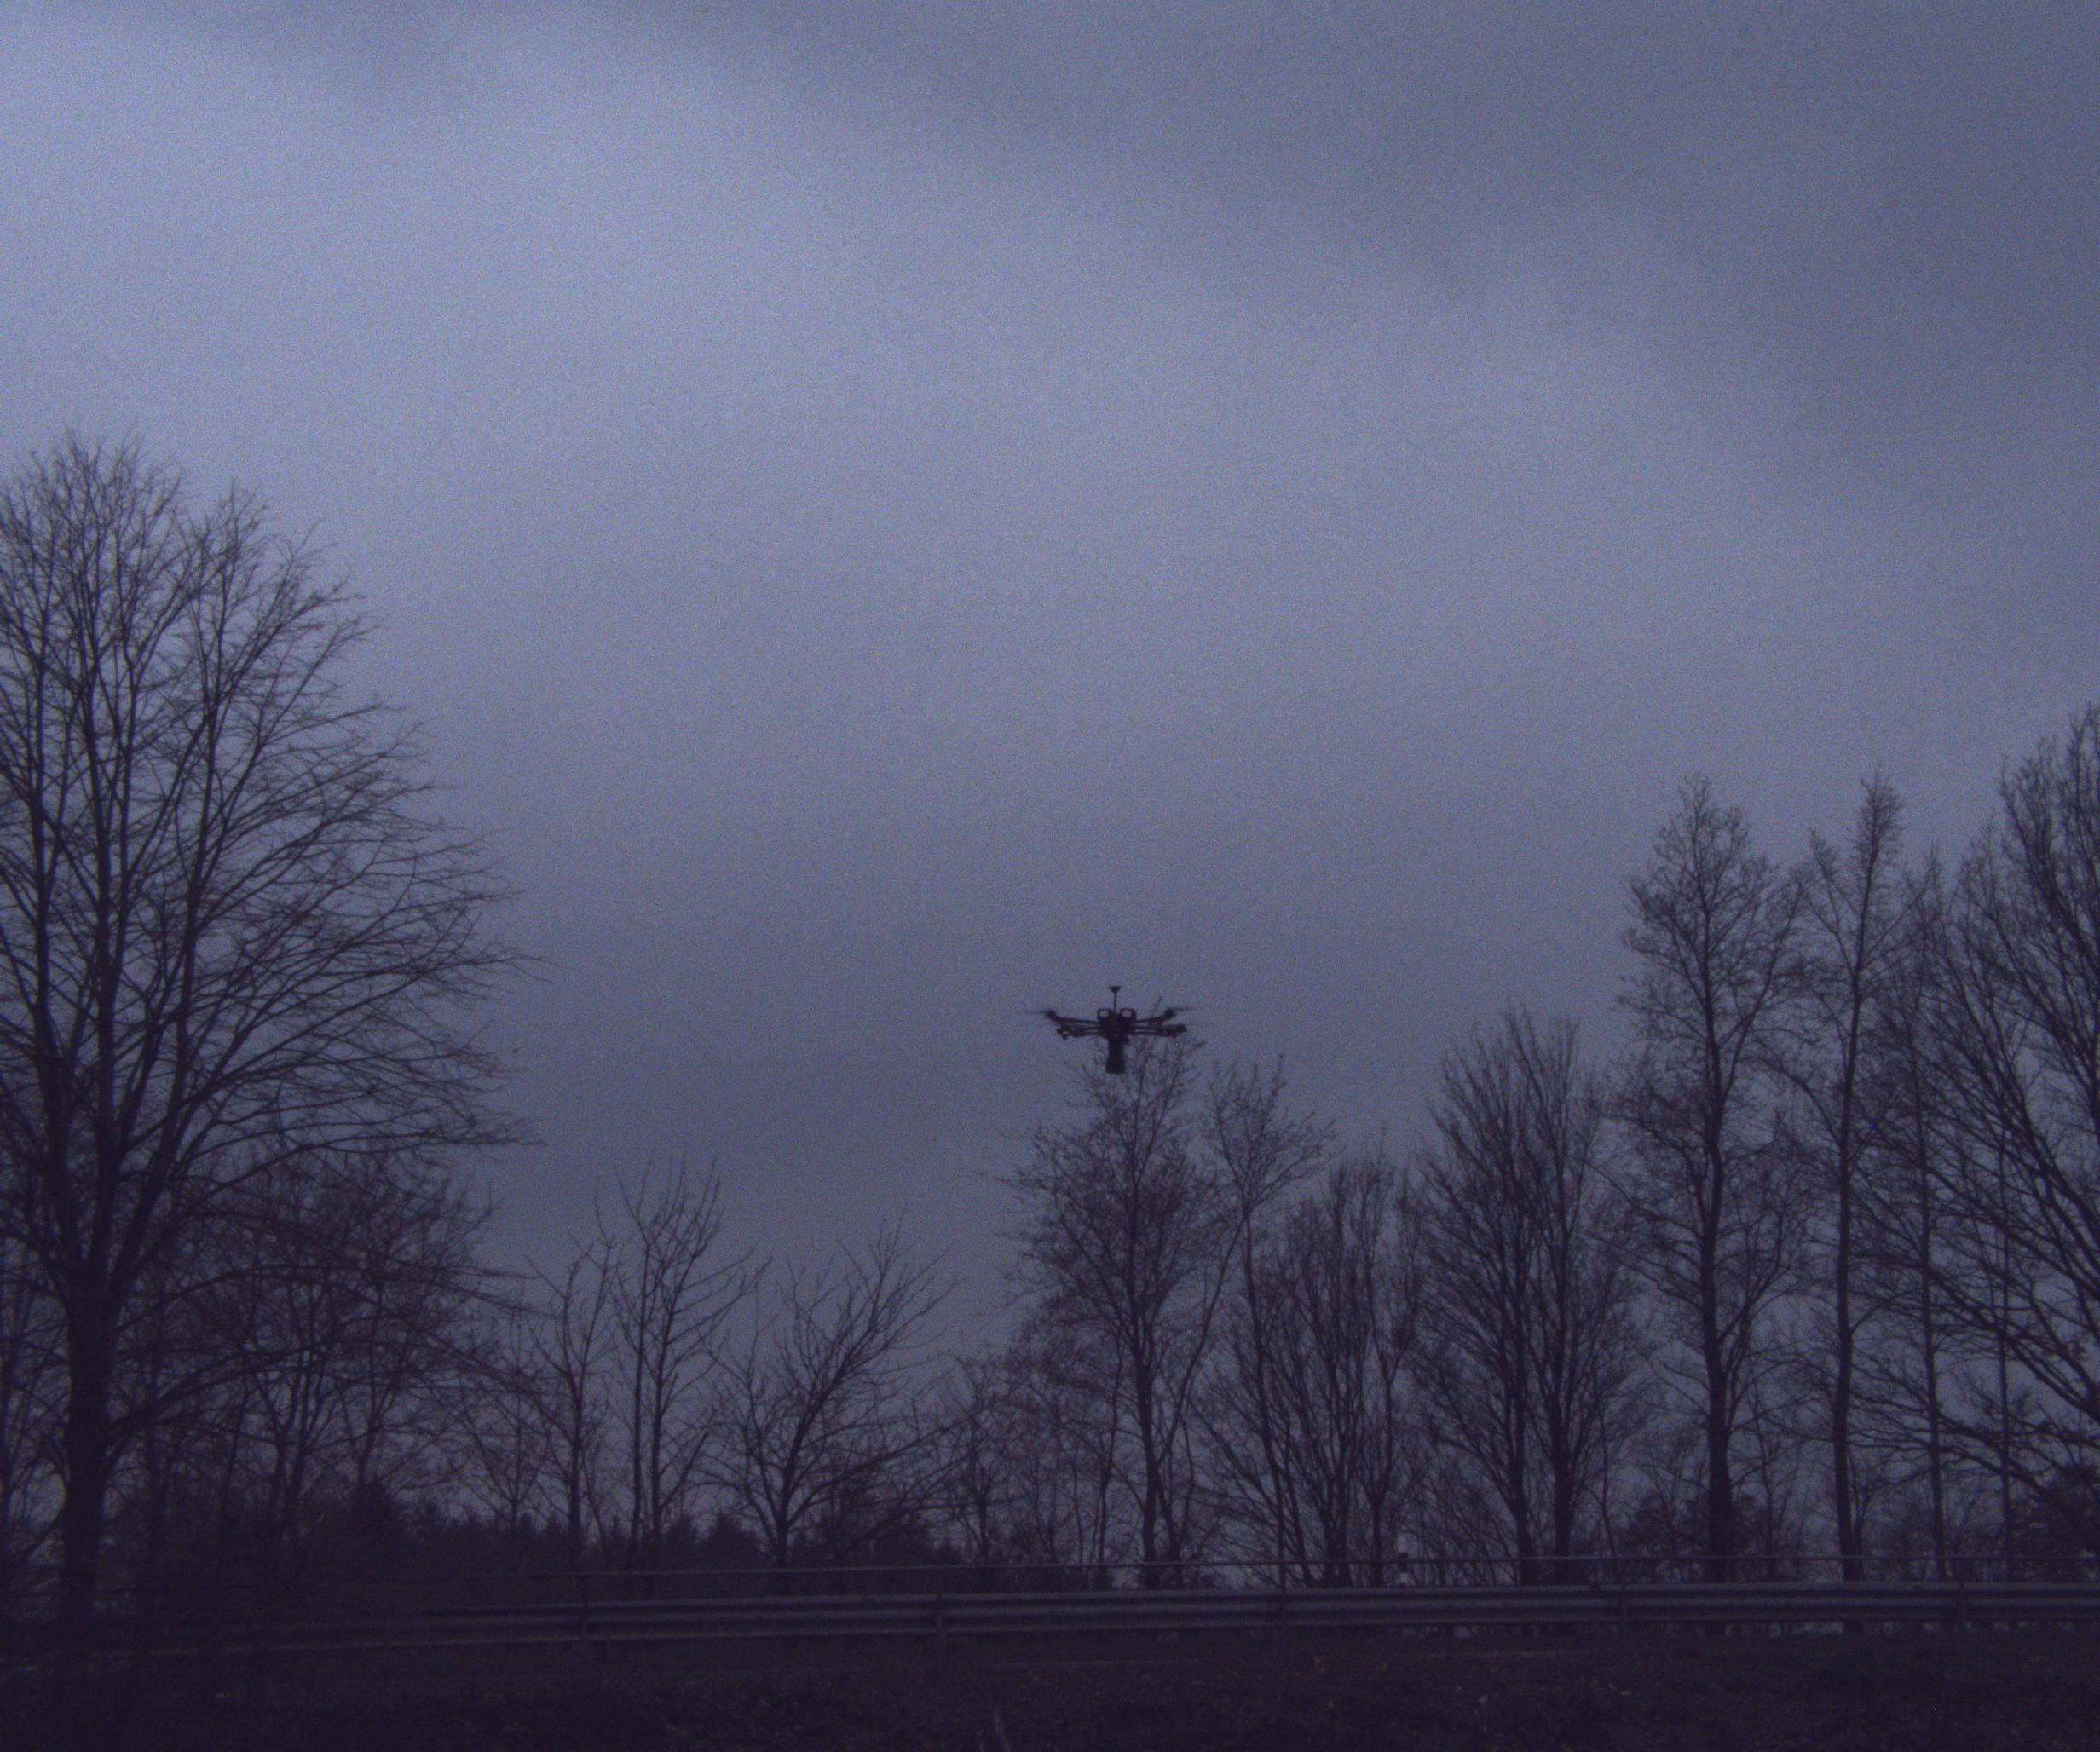Drohne: (1033, 941, 1254, 1086)
